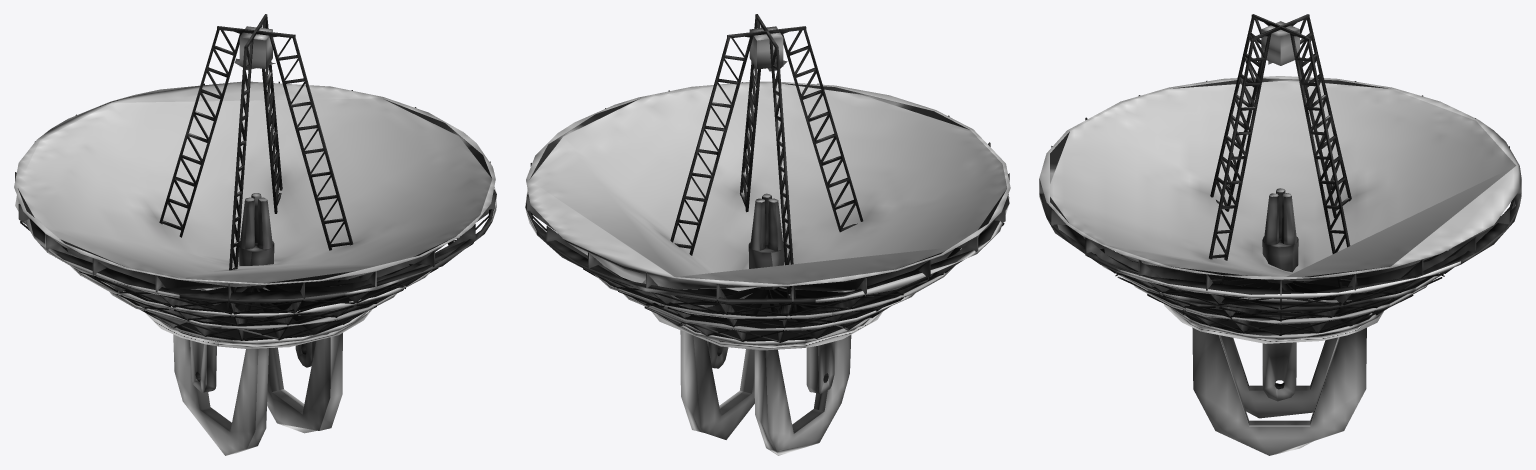
File: 70-meter-dish.glb
3 renders of one model, left to right at view 1: azimuth 30°, elevation 25°; view 2: azimuth 150°, elevation 25°; view 3: azimuth 270°, elevation 25°, orthographic.
Visible parts, largest first — view 1: 70m_rev_e.; view 2: 70m_rev_e.; view 3: 70m_rev_e..
Boxes of the visible parts, x1,y1,x2,y2 form: 70m_rev_e.: [14, 14, 496, 455]; 70m_rev_e.: [525, 14, 1010, 455]; 70m_rev_e.: [1039, 14, 1521, 455].
Size of the model in its own units: 91.32 by 85.42 by 91.32.
Materials: 1 (1 with a texture image).
